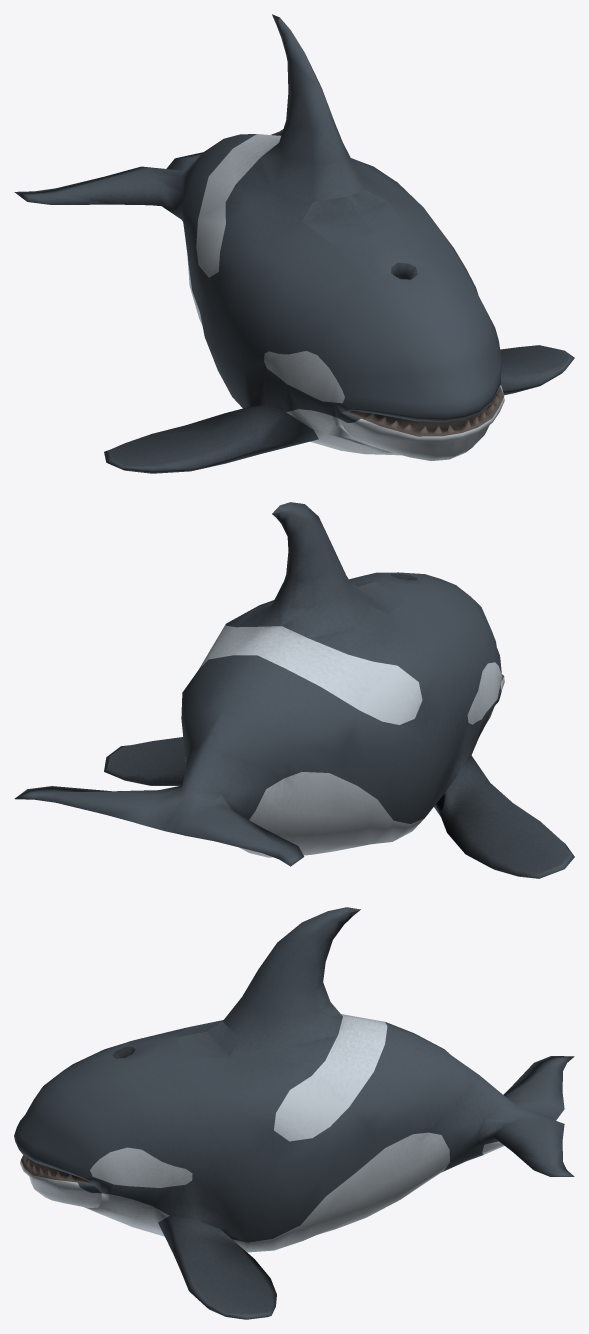
The model's file is Orca_short_parts.fbx.
The picture shows the model from 3 angles, top to bottom: view 1: azimuth 30°, elevation 25°; view 2: azimuth 150°, elevation 25°; view 3: azimuth 270°, elevation 25°; orthographic projection. The views are drawn at different scales.
Visible parts, largest first — view 1: Orca_parts_body, Orca_parts_jaw; view 2: Orca_parts_body; view 3: Orca_parts_body, Orca_parts_jaw.
Part boxes in pixels (x1=…): Orca_parts_body: x1=14, y1=14, x2=574, y2=473; Orca_parts_jaw: x1=339, y1=381, x2=504, y2=460; Orca_parts_body: x1=14, y1=502, x2=574, y2=878; Orca_parts_body: x1=14, y1=907, x2=574, y2=1319; Orca_parts_jaw: x1=20, y1=1155, x2=101, y2=1207.
Size of the model in its own units: 558 by 426 by 661.
1 material, 1 textured.
